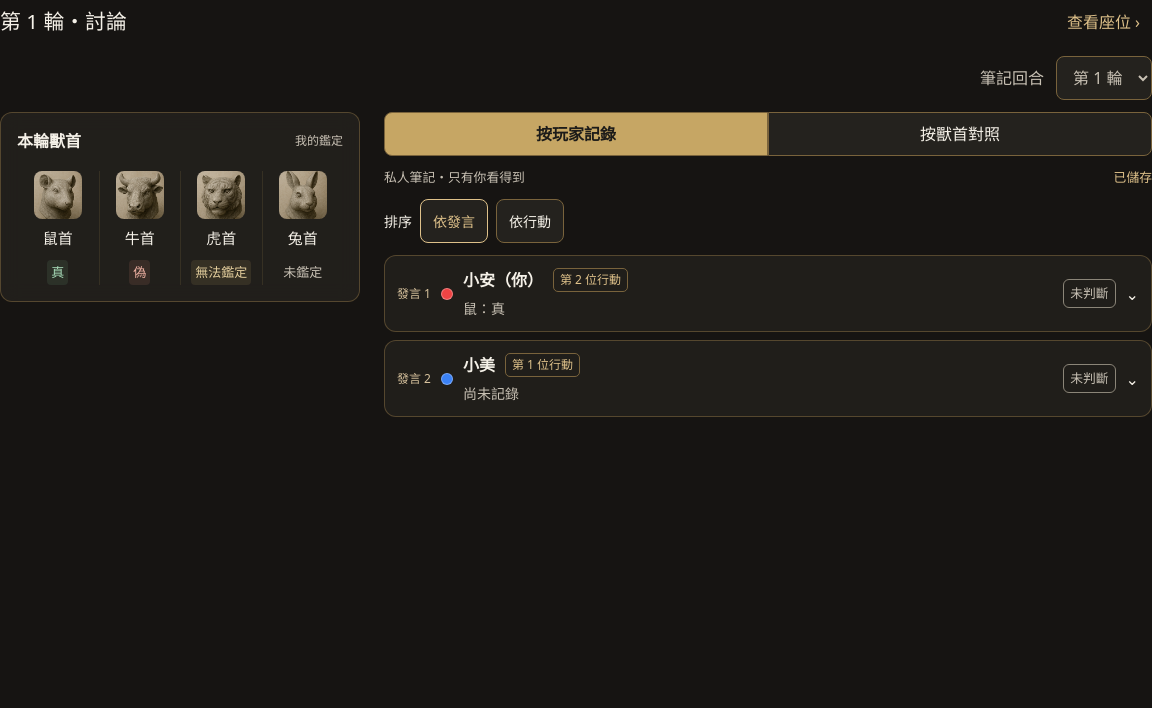
Scenario: selects attacked from the claim menu for the whole round and allows correcting it
Click the button "發言 1 小安（你） 第 2 位行動 鼠：真 未判斷 ⌄" at (414, 293), box [385,256,1151,331]
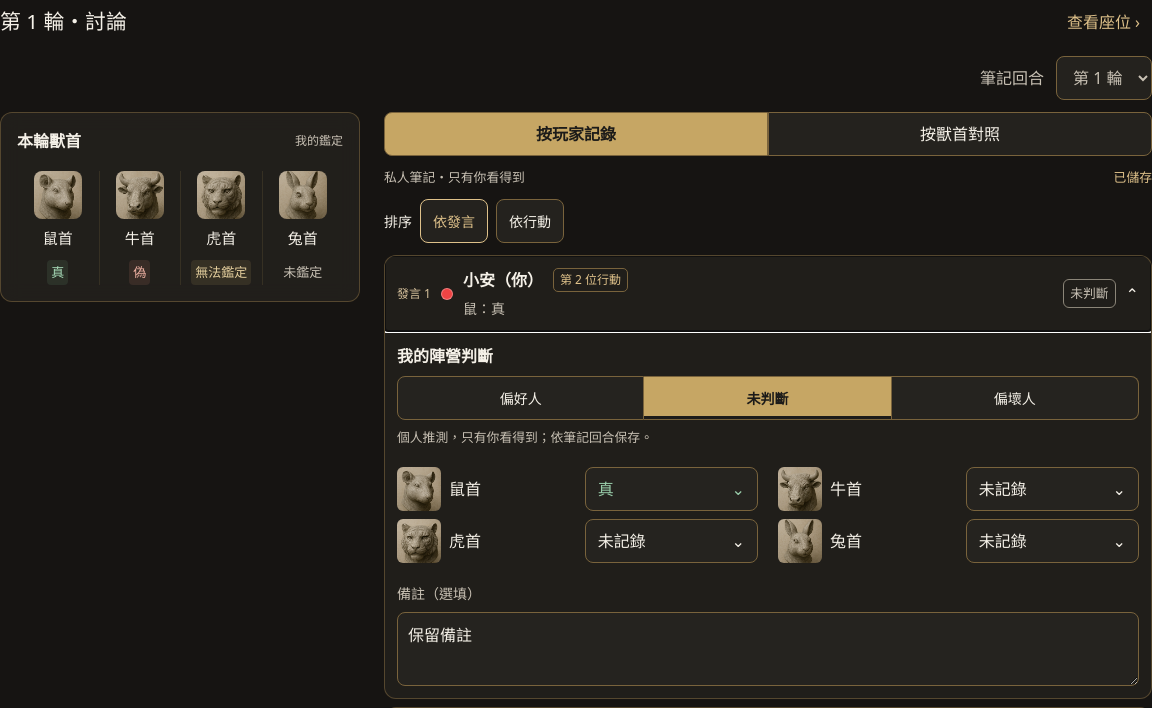
Click the button named "記錄小安的鼠首說法" at (671, 489), box [585,467,758,511]
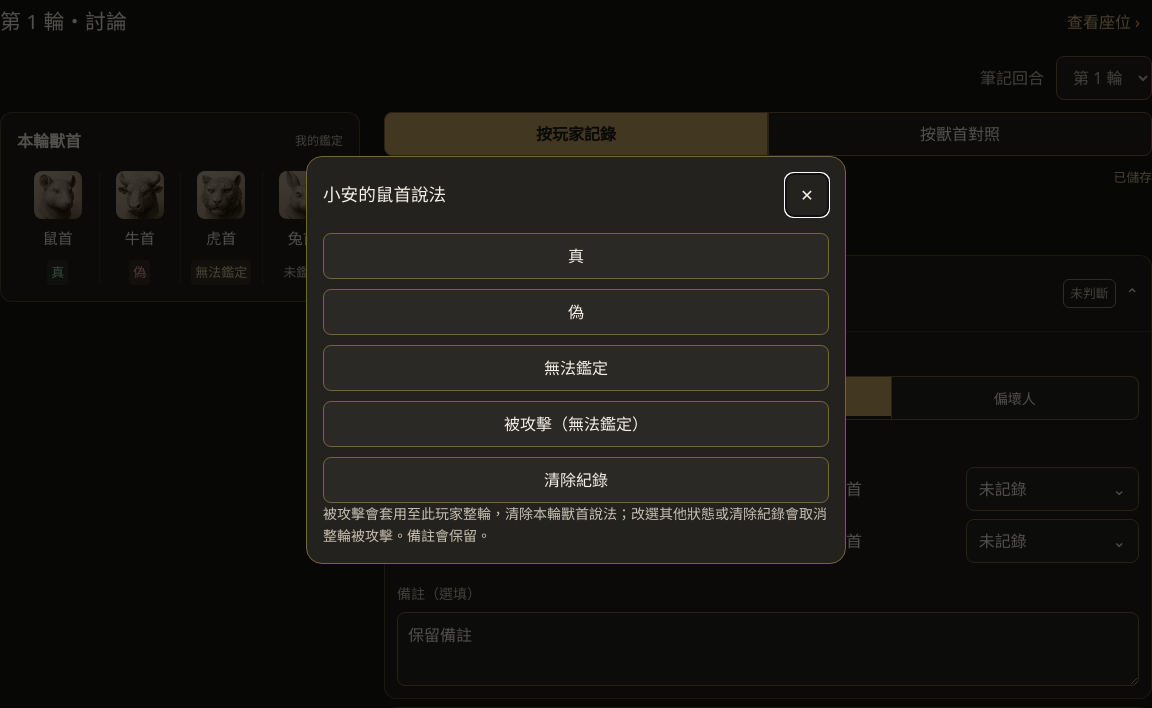
Click the button "被攻擊（無法鑑定）" at (576, 424), box [323,401,829,447]
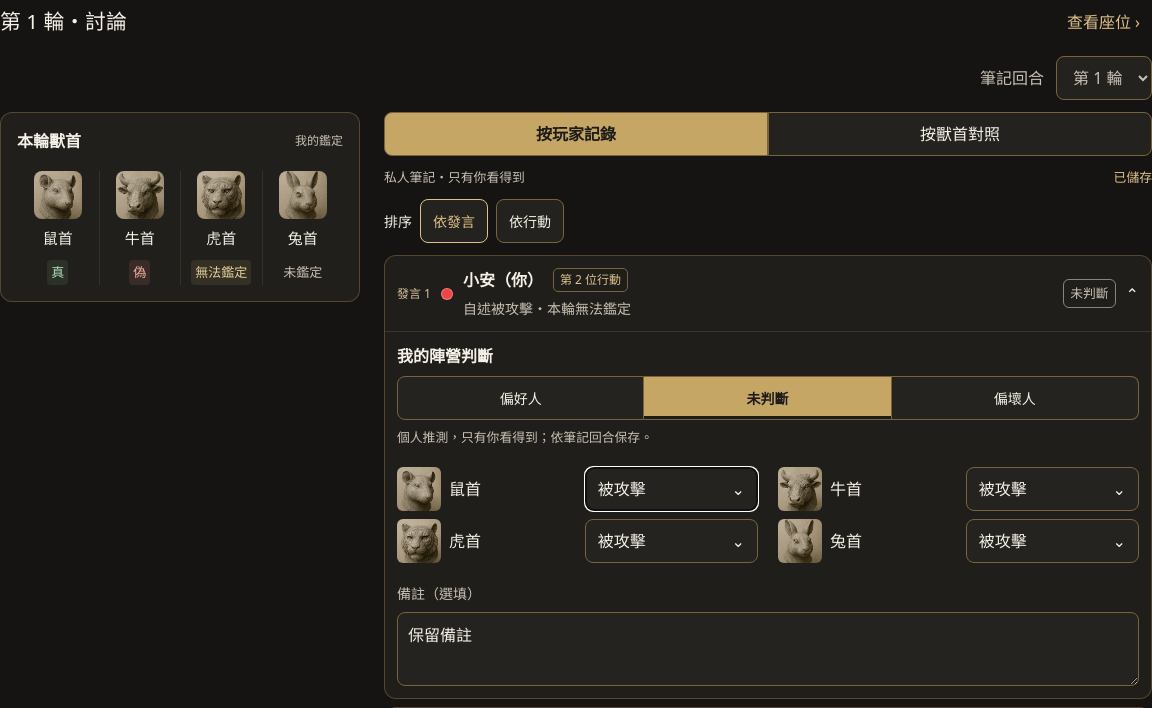
Now the button with aria-label "記錄小安的鼠首說法" shows "被攻擊"
Now the button with aria-label "記錄小安的牛首說法" shows "被攻擊", box [966,467,1139,511]
Click the button with aria-label "記錄小安的鼠首說法" at (671, 489), box [585,467,758,511]
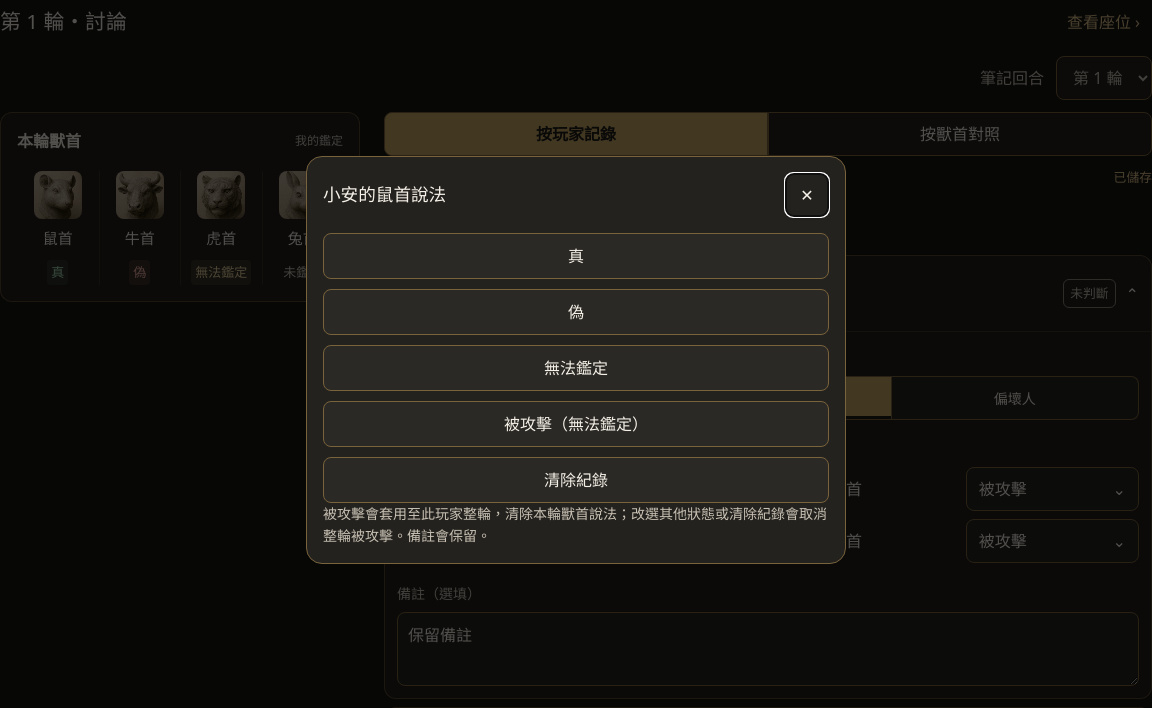
Click the button "偽" at (576, 312), box [323,289,829,335]
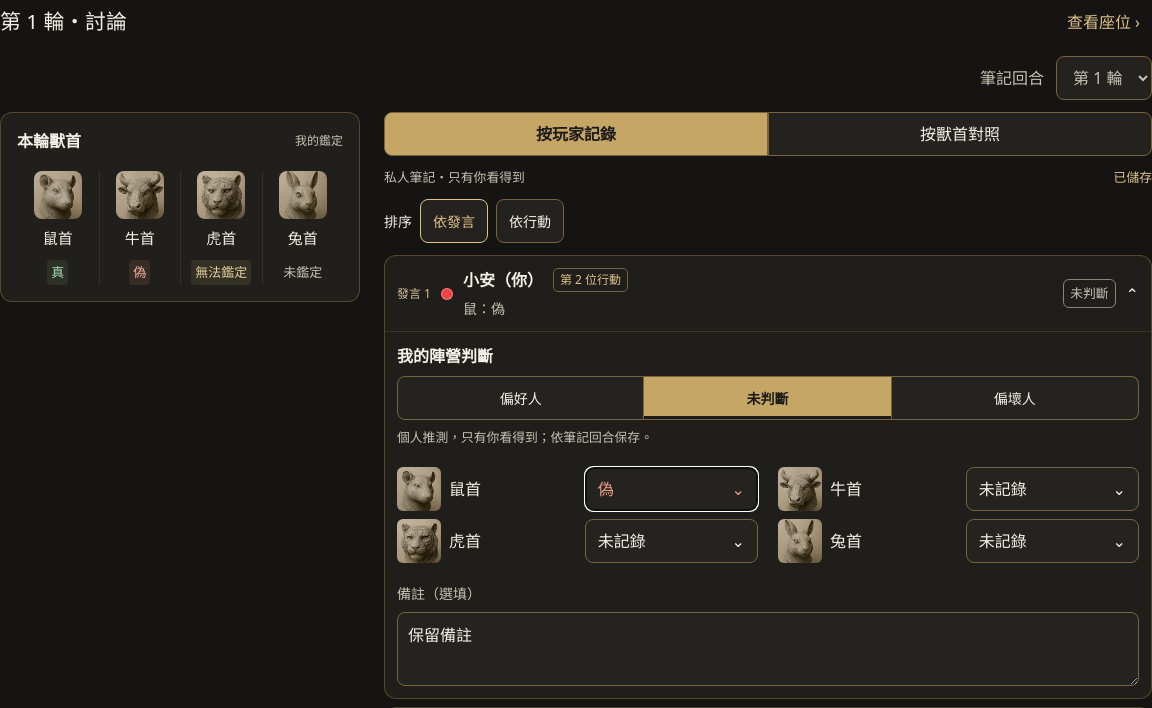
Now the button with aria-label "記錄小安的牛首說法" shows "未記錄", box [966,467,1139,511]
